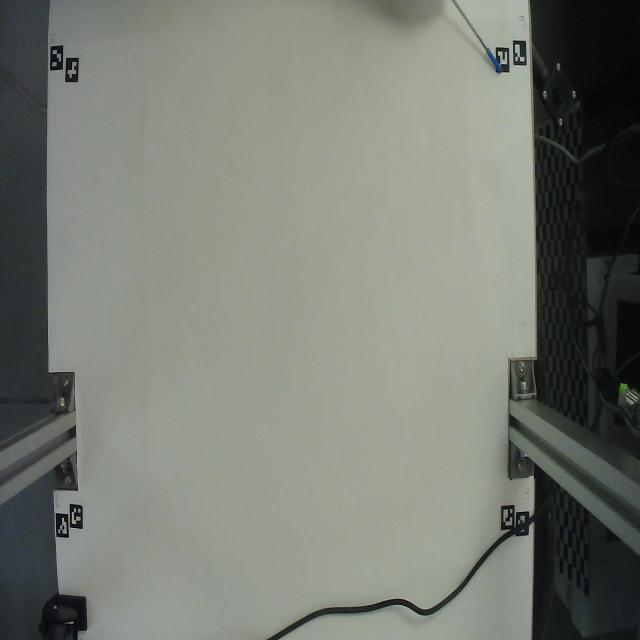Pres: (446, 0, 514, 96)
